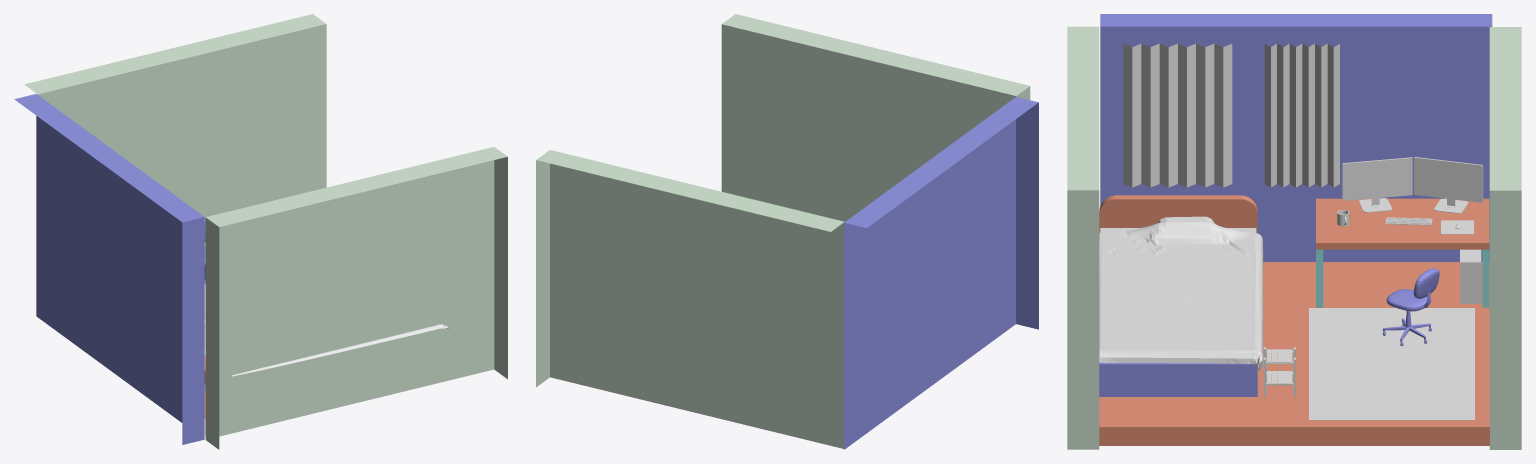
File: mattya2.glb
3 views of the same model, side by side, from view 1: azimuth 30°, elevation 25°; view 2: azimuth 150°, elevation 25°; view 3: azimuth 270°, elevation 25° (orthographic). The views are drawn at different scales.
Parts seen in each view (by area): view 1: 立方体.034, 立方体.005, 立方体.004, 平面.003; view 2: 立方体.004, 立方体.005, 立方体.034; view 3: 立方体.005, Cube, 平面.003, 平面.002, 平面, 立方体.034, 立方体.004, 平面.001, 立方体, 立方体.001, 立方体.003, 立方体.030 (+7 smaller).
Boxes of the visible parts, bbox=[...] form: 立方体.034: bbox=[205, 147, 507, 449]; 立方体.005: bbox=[14, 94, 204, 444]; 立方体.004: bbox=[24, 14, 326, 247]; 平面.003: bbox=[204, 315, 448, 376]; 立方体.004: bbox=[536, 150, 844, 448]; 立方体.005: bbox=[844, 97, 1038, 449]; 立方体.034: bbox=[721, 14, 1030, 221]; 立方体.005: bbox=[1100, 14, 1492, 261]; Cube: bbox=[1099, 262, 1489, 445]; 平面.003: bbox=[1099, 222, 1263, 372]; 平面.002: bbox=[1309, 308, 1474, 420]; 平面: bbox=[1123, 43, 1232, 187]; 立方体.034: bbox=[1067, 26, 1099, 449]; 立方体.004: bbox=[1489, 27, 1521, 449]; 平面.001: bbox=[1264, 43, 1339, 187]; 立方体: bbox=[1316, 198, 1489, 249]; 立方体.001: bbox=[1099, 362, 1257, 396]; 立方体.003: bbox=[1099, 195, 1257, 233]; 立方体.030: bbox=[1342, 157, 1412, 212].
Bounding box in the file's own units: 2.16 × 1.47 × 2.33.
